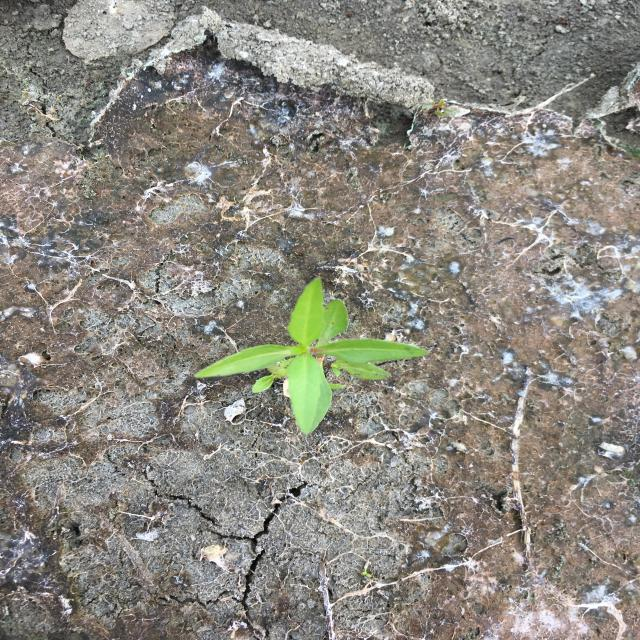Eclipta: (192, 275, 432, 437)
